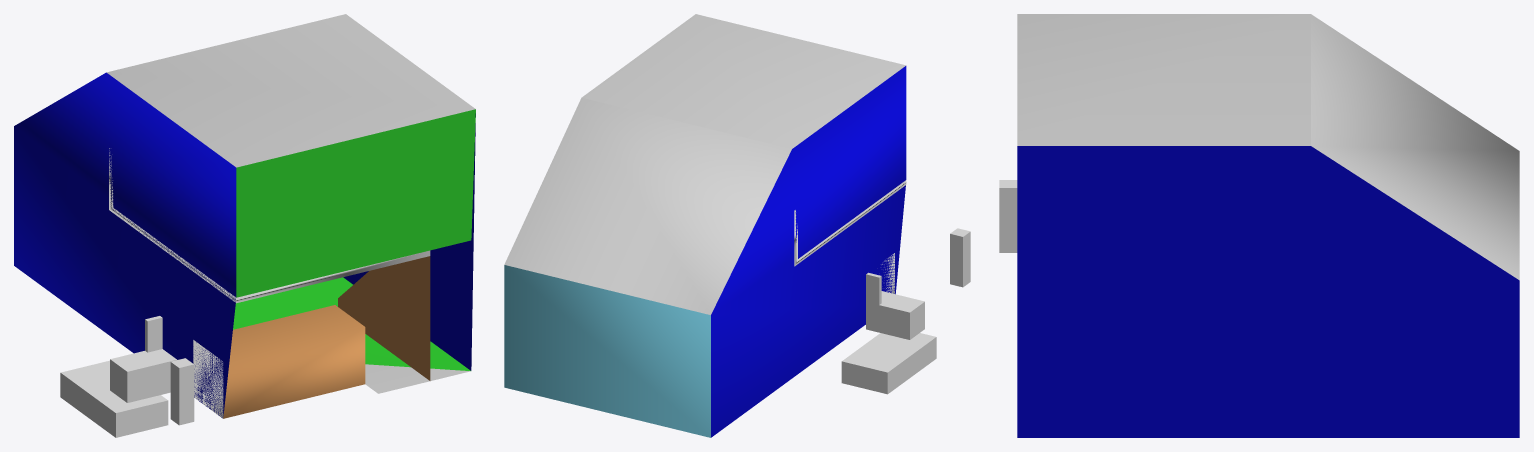
File: Apartment2.fbx
3 views of the same model, side by side, from view 1: azimuth 30°, elevation 25°; view 2: azimuth 150°, elevation 25°; view 3: azimuth 270°, elevation 25° (orthographic). The views are drawn at different scales.
Parts seen in each view (by area): view 1: Plane.001, Cube.002, Cube.001, Cube, Cube.003; view 2: Plane.001, Cube.002, Cube.001, Cube, Cube.003; view 3: Plane.001, Cube.
Boxes of the visible parts, x1,y1,x2,y2 form: Plane.001: (14, 14, 475, 418); Cube.002: (60, 360, 168, 437); Cube.001: (110, 349, 176, 402); Cube: (170, 358, 194, 425); Cube.003: (145, 316, 162, 352); Plane.001: (504, 14, 906, 437); Cube.002: (841, 333, 936, 394); Cube.001: (866, 291, 924, 339); Cube: (950, 228, 970, 287); Cube.003: (866, 272, 881, 304); Plane.001: (1017, 14, 1519, 437); Cube: (999, 180, 1017, 252).
Size of the model in its own units: 646 by 551 by 813.
